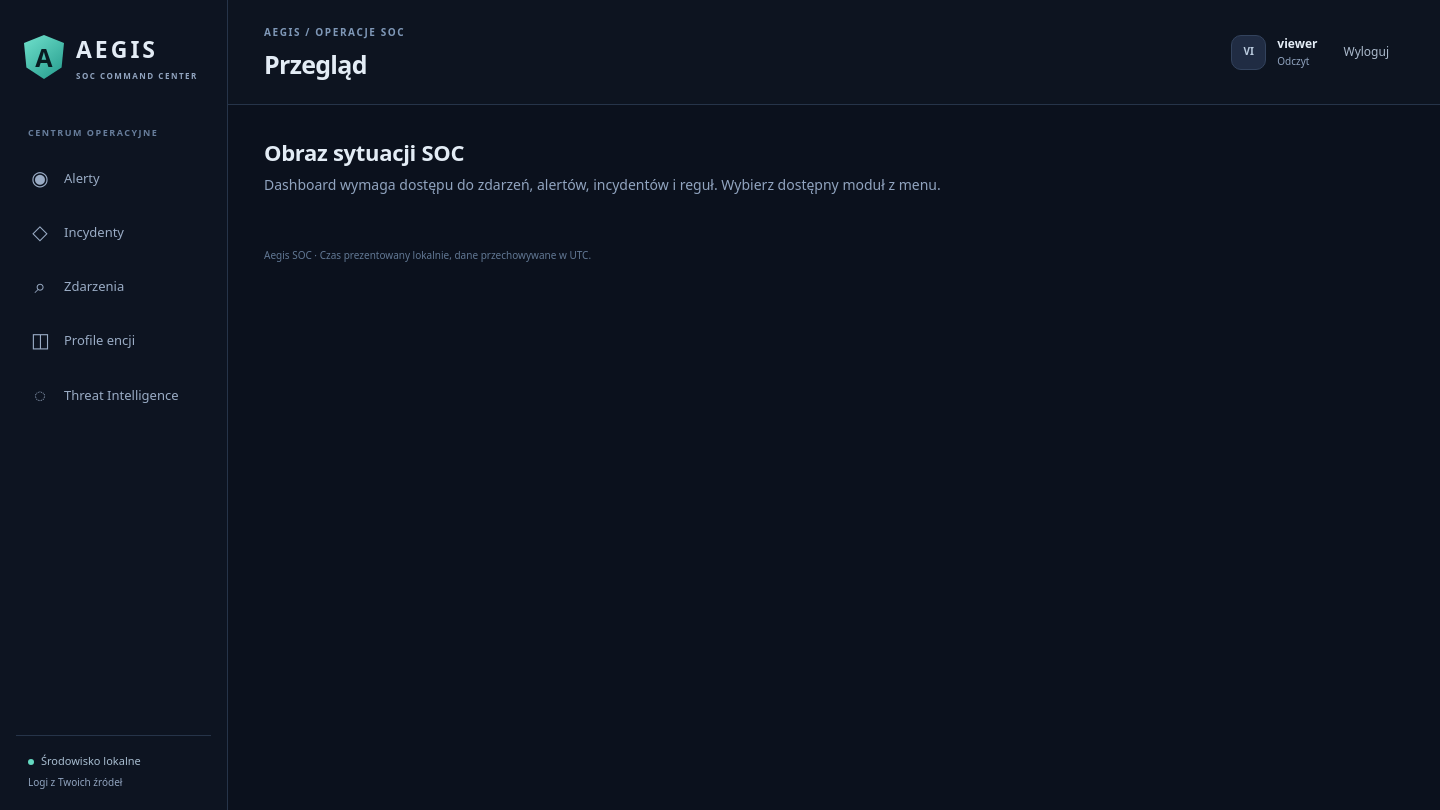
Test: opens a bounded local catalogue, shows complete server totals and declares provider network isolation
Click the button "◌ Threat Intelligence". click: (114, 395)
box: [16,370,211,419]
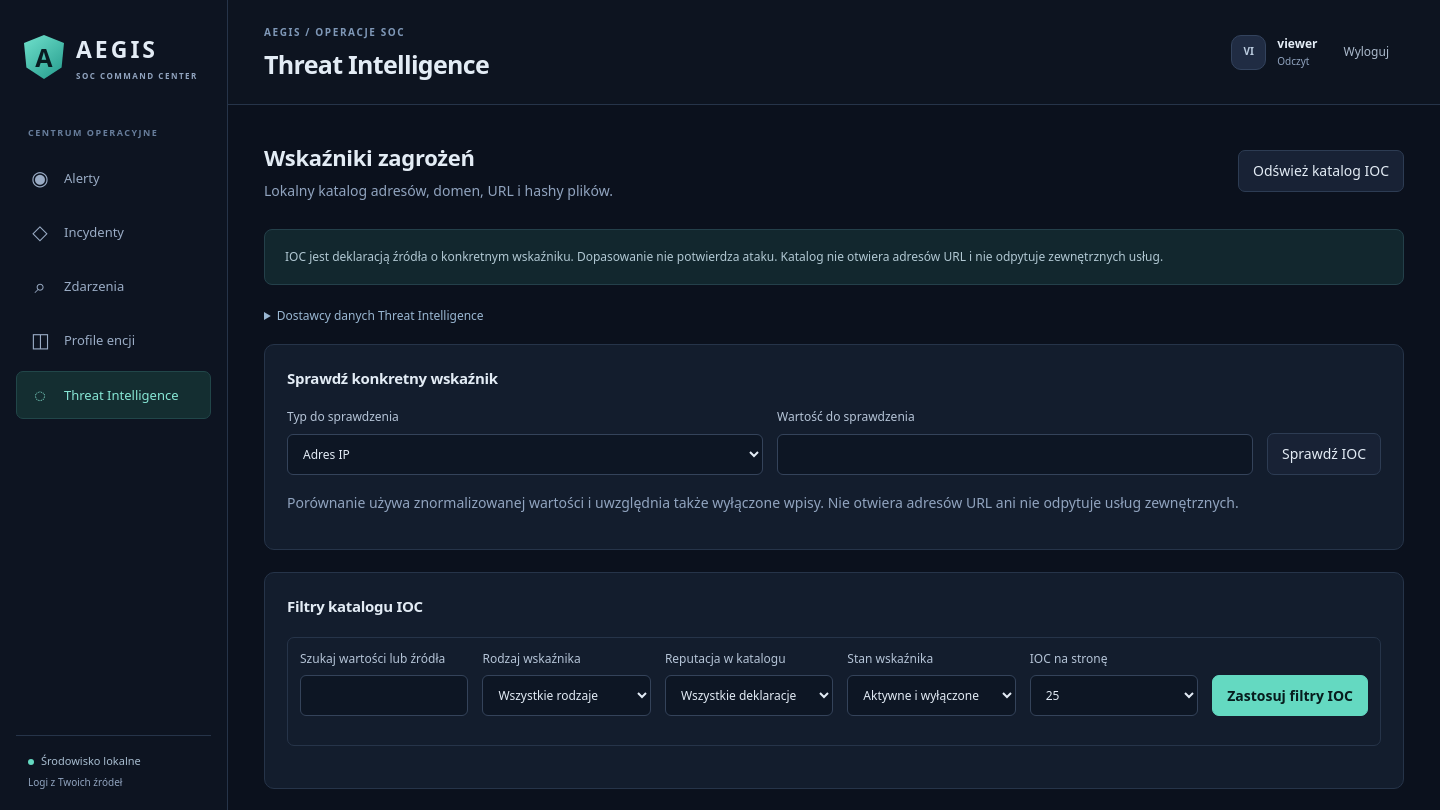
expect the text "Dopasowanie nie potwierdza ataku" is shown: met, box [285,248,1163,265]
